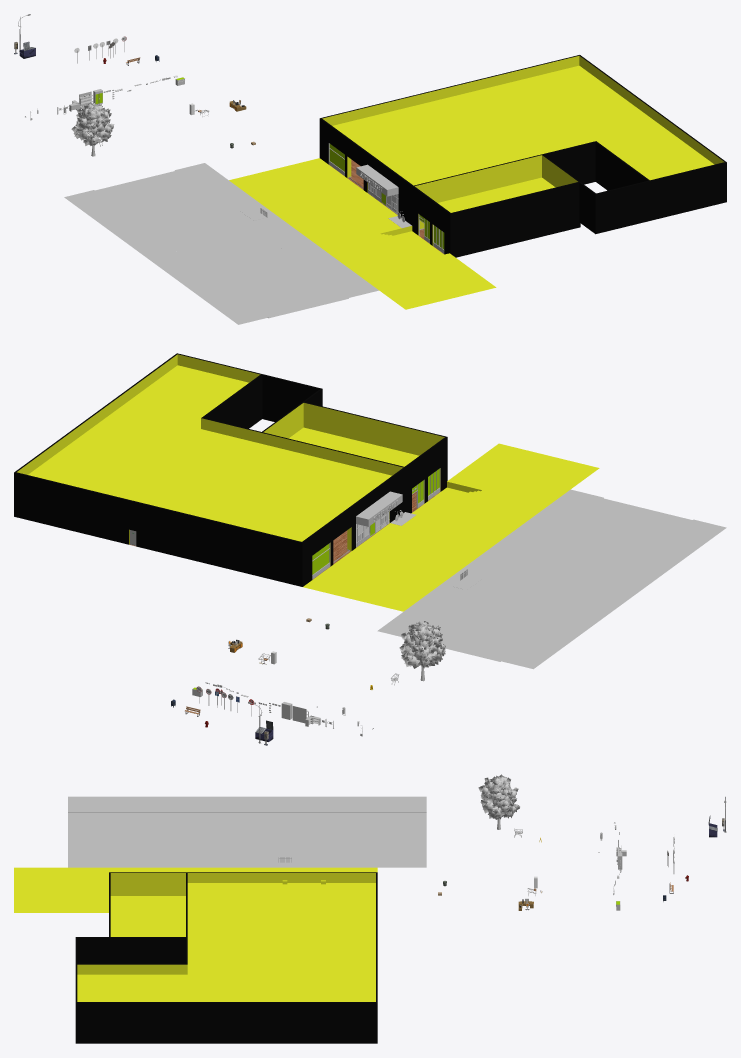
Rendered from env.fbx.
3 renders of one model, top to bottom at view 1: azimuth 30°, elevation 25°; view 2: azimuth 150°, elevation 25°; view 3: azimuth 270°, elevation 25°, orthographic. The views are drawn at different scales.
Visible parts, largest first — view 1: Object345, Line004, Line001, Plane003, Object352, Rectangle007, Line010, tree6, Box005; view 2: Object345, Line004, Line001, Plane003, Object352, Rectangle007, Line010, tree6, Box005; view 3: Object345, Line004, Line001, Object352, Rectangle007, Line010, Plane003, tree6.
Part boxes in pixels (x1=…): Object345: x1=64, y1=163, x2=378, y2=324; Line004: x1=332, y1=65, x2=714, y2=185; Line001: x1=319, y1=55, x2=726, y2=257; Plane003: x1=229, y1=158, x2=443, y2=275; Object352: x1=322, y1=55, x2=724, y2=228; Rectangle007: x1=359, y1=253, x2=496, y2=309; Line010: x1=438, y1=177, x2=555, y2=212; tree6: x1=71, y1=102, x2=114, y2=145; Box005: x1=356, y1=164, x2=398, y2=196; Object345: x1=377, y1=489, x2=726, y2=669; Line004: x1=28, y1=365, x2=391, y2=541; Line001: x1=14, y1=353, x2=447, y2=586; Plane003: x1=303, y1=481, x2=547, y2=611; Object352: x1=17, y1=354, x2=444, y2=475; Rectangle007: x1=447, y1=443, x2=599, y2=506; Line010: x1=289, y1=427, x2=419, y2=466; tree6: x1=399, y1=621, x2=445, y2=668; Box005: x1=356, y1=491, x2=402, y2=526; Object345: x1=68, y1=796, x2=426, y2=867; Line004: x1=77, y1=883, x2=375, y2=1001; Line001: x1=75, y1=872, x2=377, y2=1043; Object352: x1=77, y1=873, x2=375, y2=974; Rectangle007: x1=14, y1=867, x2=110, y2=912; Line010: x1=110, y1=896, x2=185, y2=936; Plane003: x1=110, y1=867, x2=377, y2=872; tree6: x1=478, y1=774, x2=519, y2=819.
Bounding box in the file's own units: 3105 × 3789 × 352.
